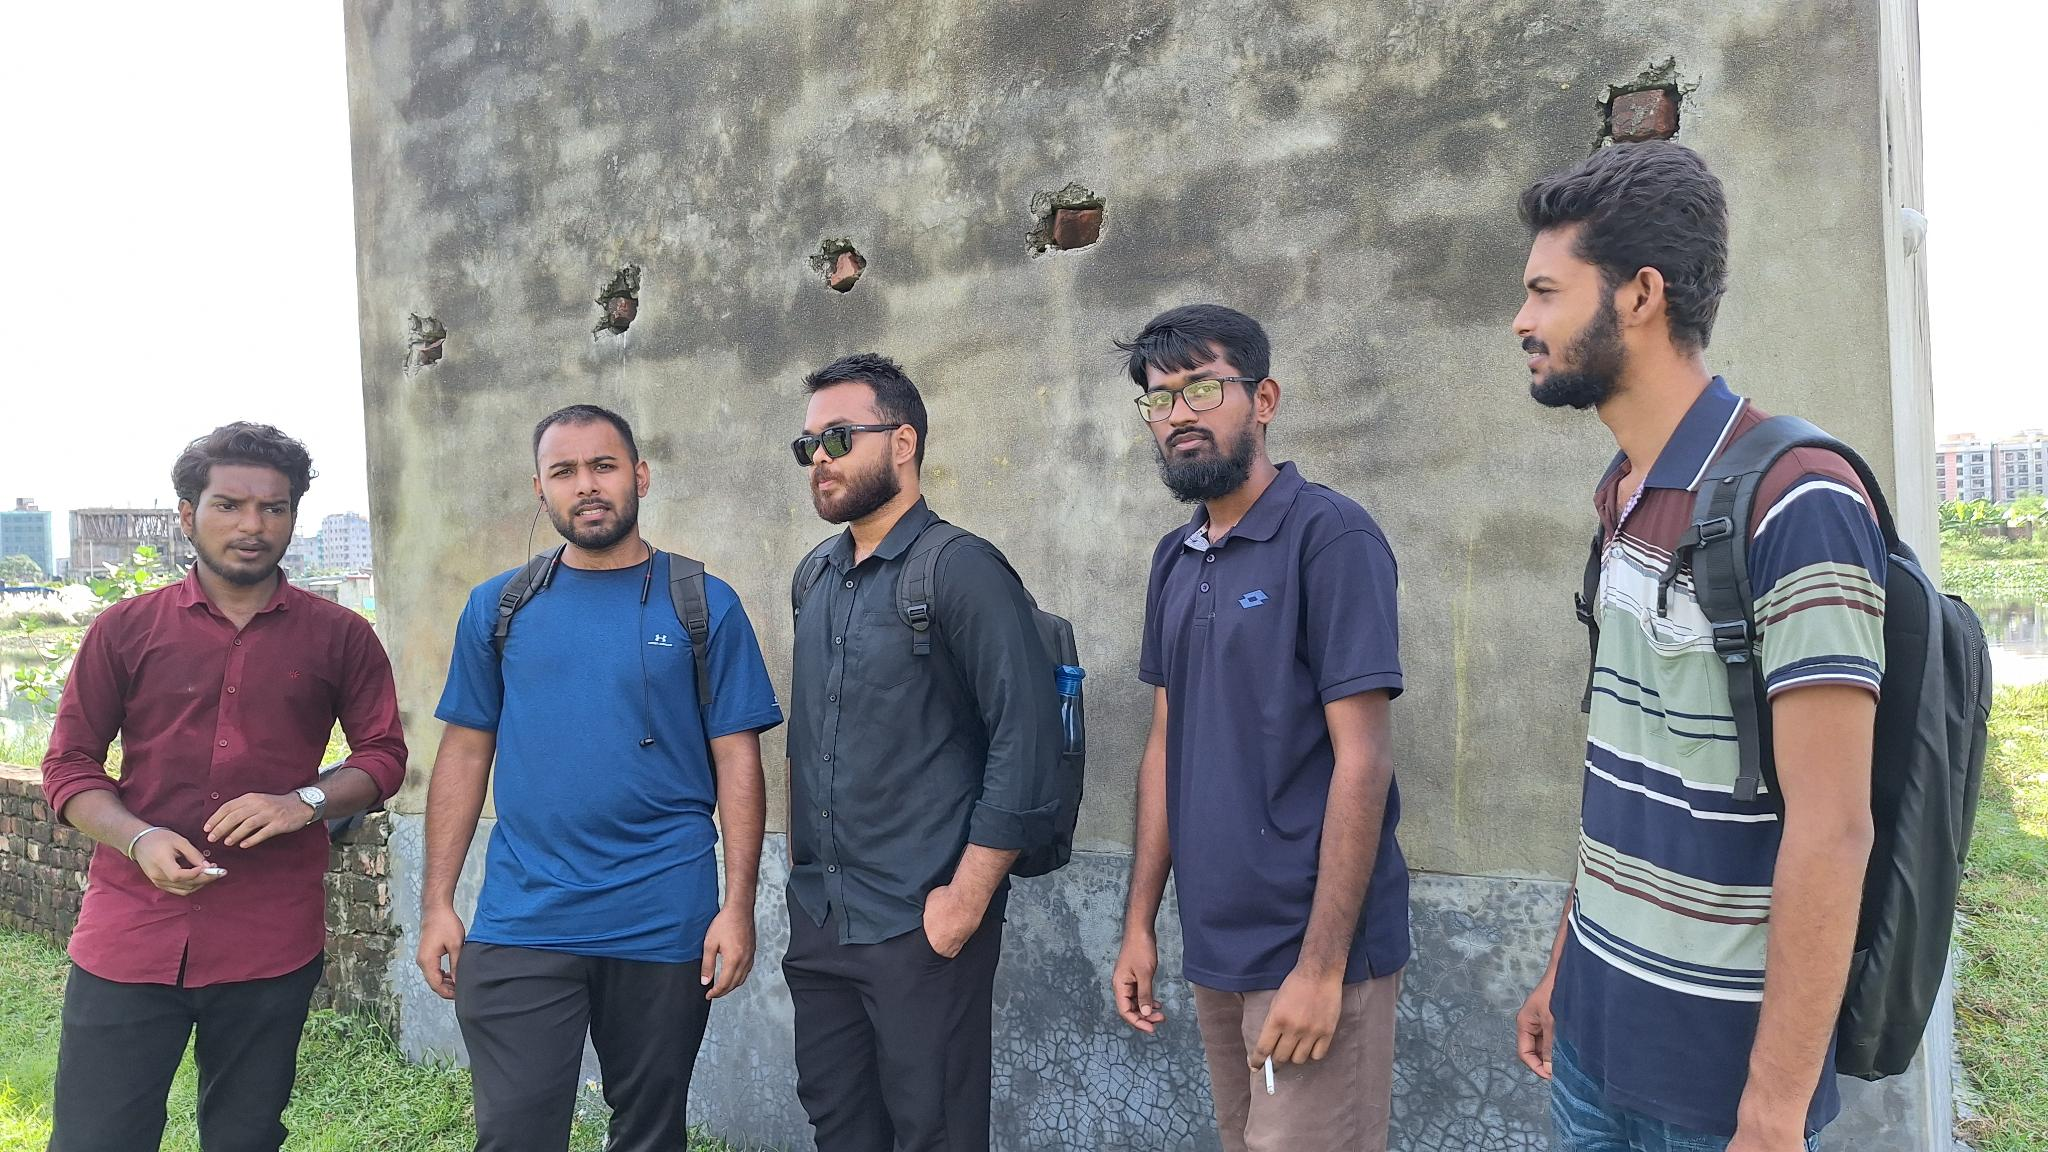cigarette: (1260, 1052, 1277, 1099), (200, 864, 226, 878)
nonSmoker: (1511, 143, 1993, 1152), (412, 404, 786, 1152), (782, 353, 1089, 1152)
smoker: (44, 419, 414, 1152), (1110, 302, 1412, 1152)
